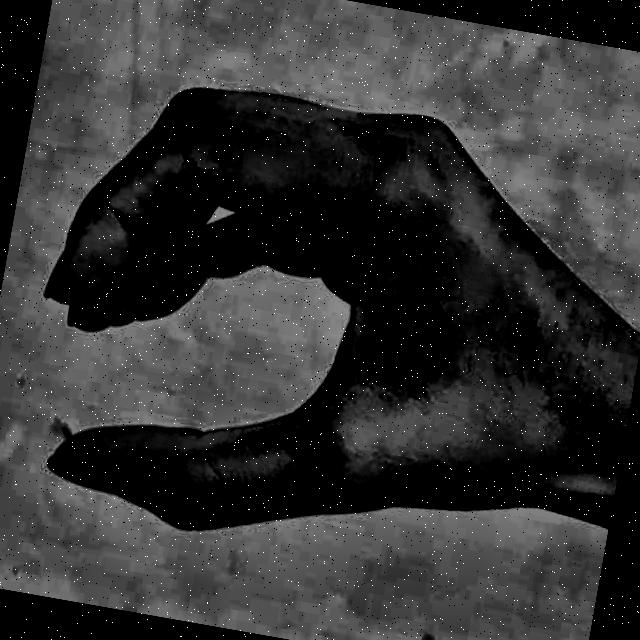Ka: (0, 6, 625, 620)
